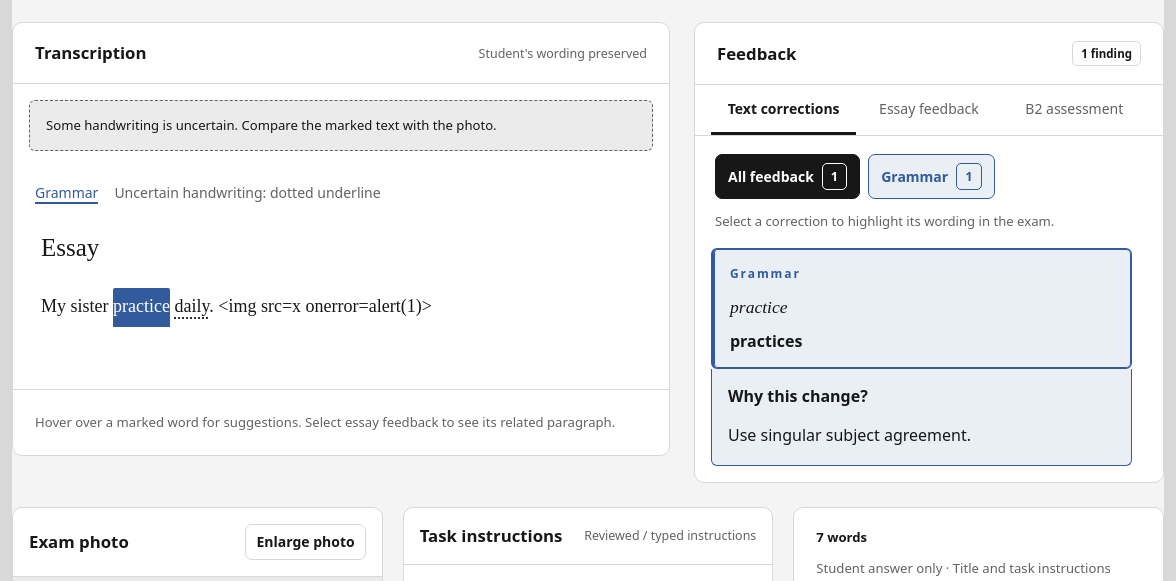
Test: ReviewScreen and transcript ranges › shows safe text, uncertainty, feedback selection, and counts only response text
expect the text with class "uncertainty" reads "daily": met, box 174,296 -> 209,316
Click the button with aria-label "Grammar feedback for practice". click: (142, 308)
box: 113,288 -> 170,327
(page scrolled)
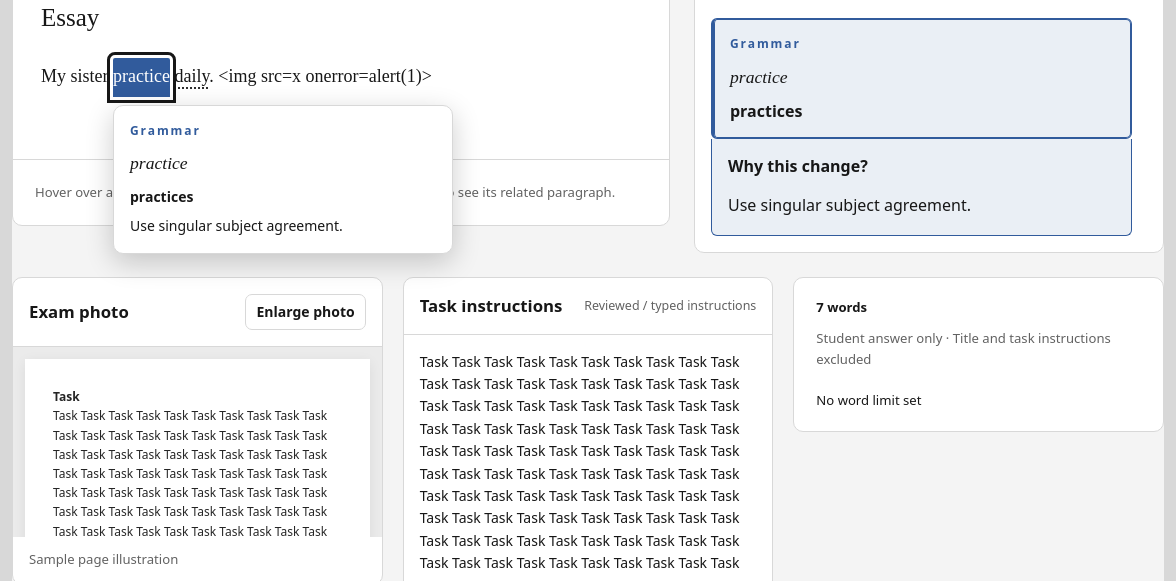
expect the element with class "word-summary" shows "7 words": met, box 816,298 -> 867,316
expect the 2nd text "Use singular subject agreement." is shown: met, box 130,216 -> 343,235
